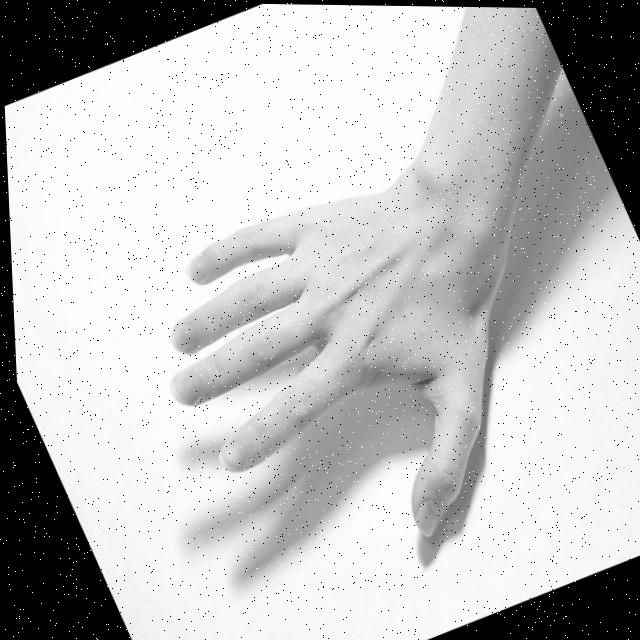hand: (107, 150, 563, 611)
